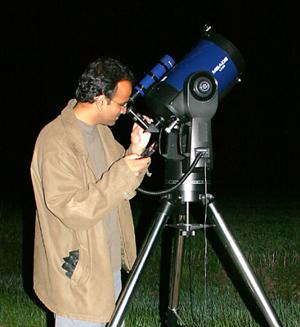person: (29, 60, 152, 325)
